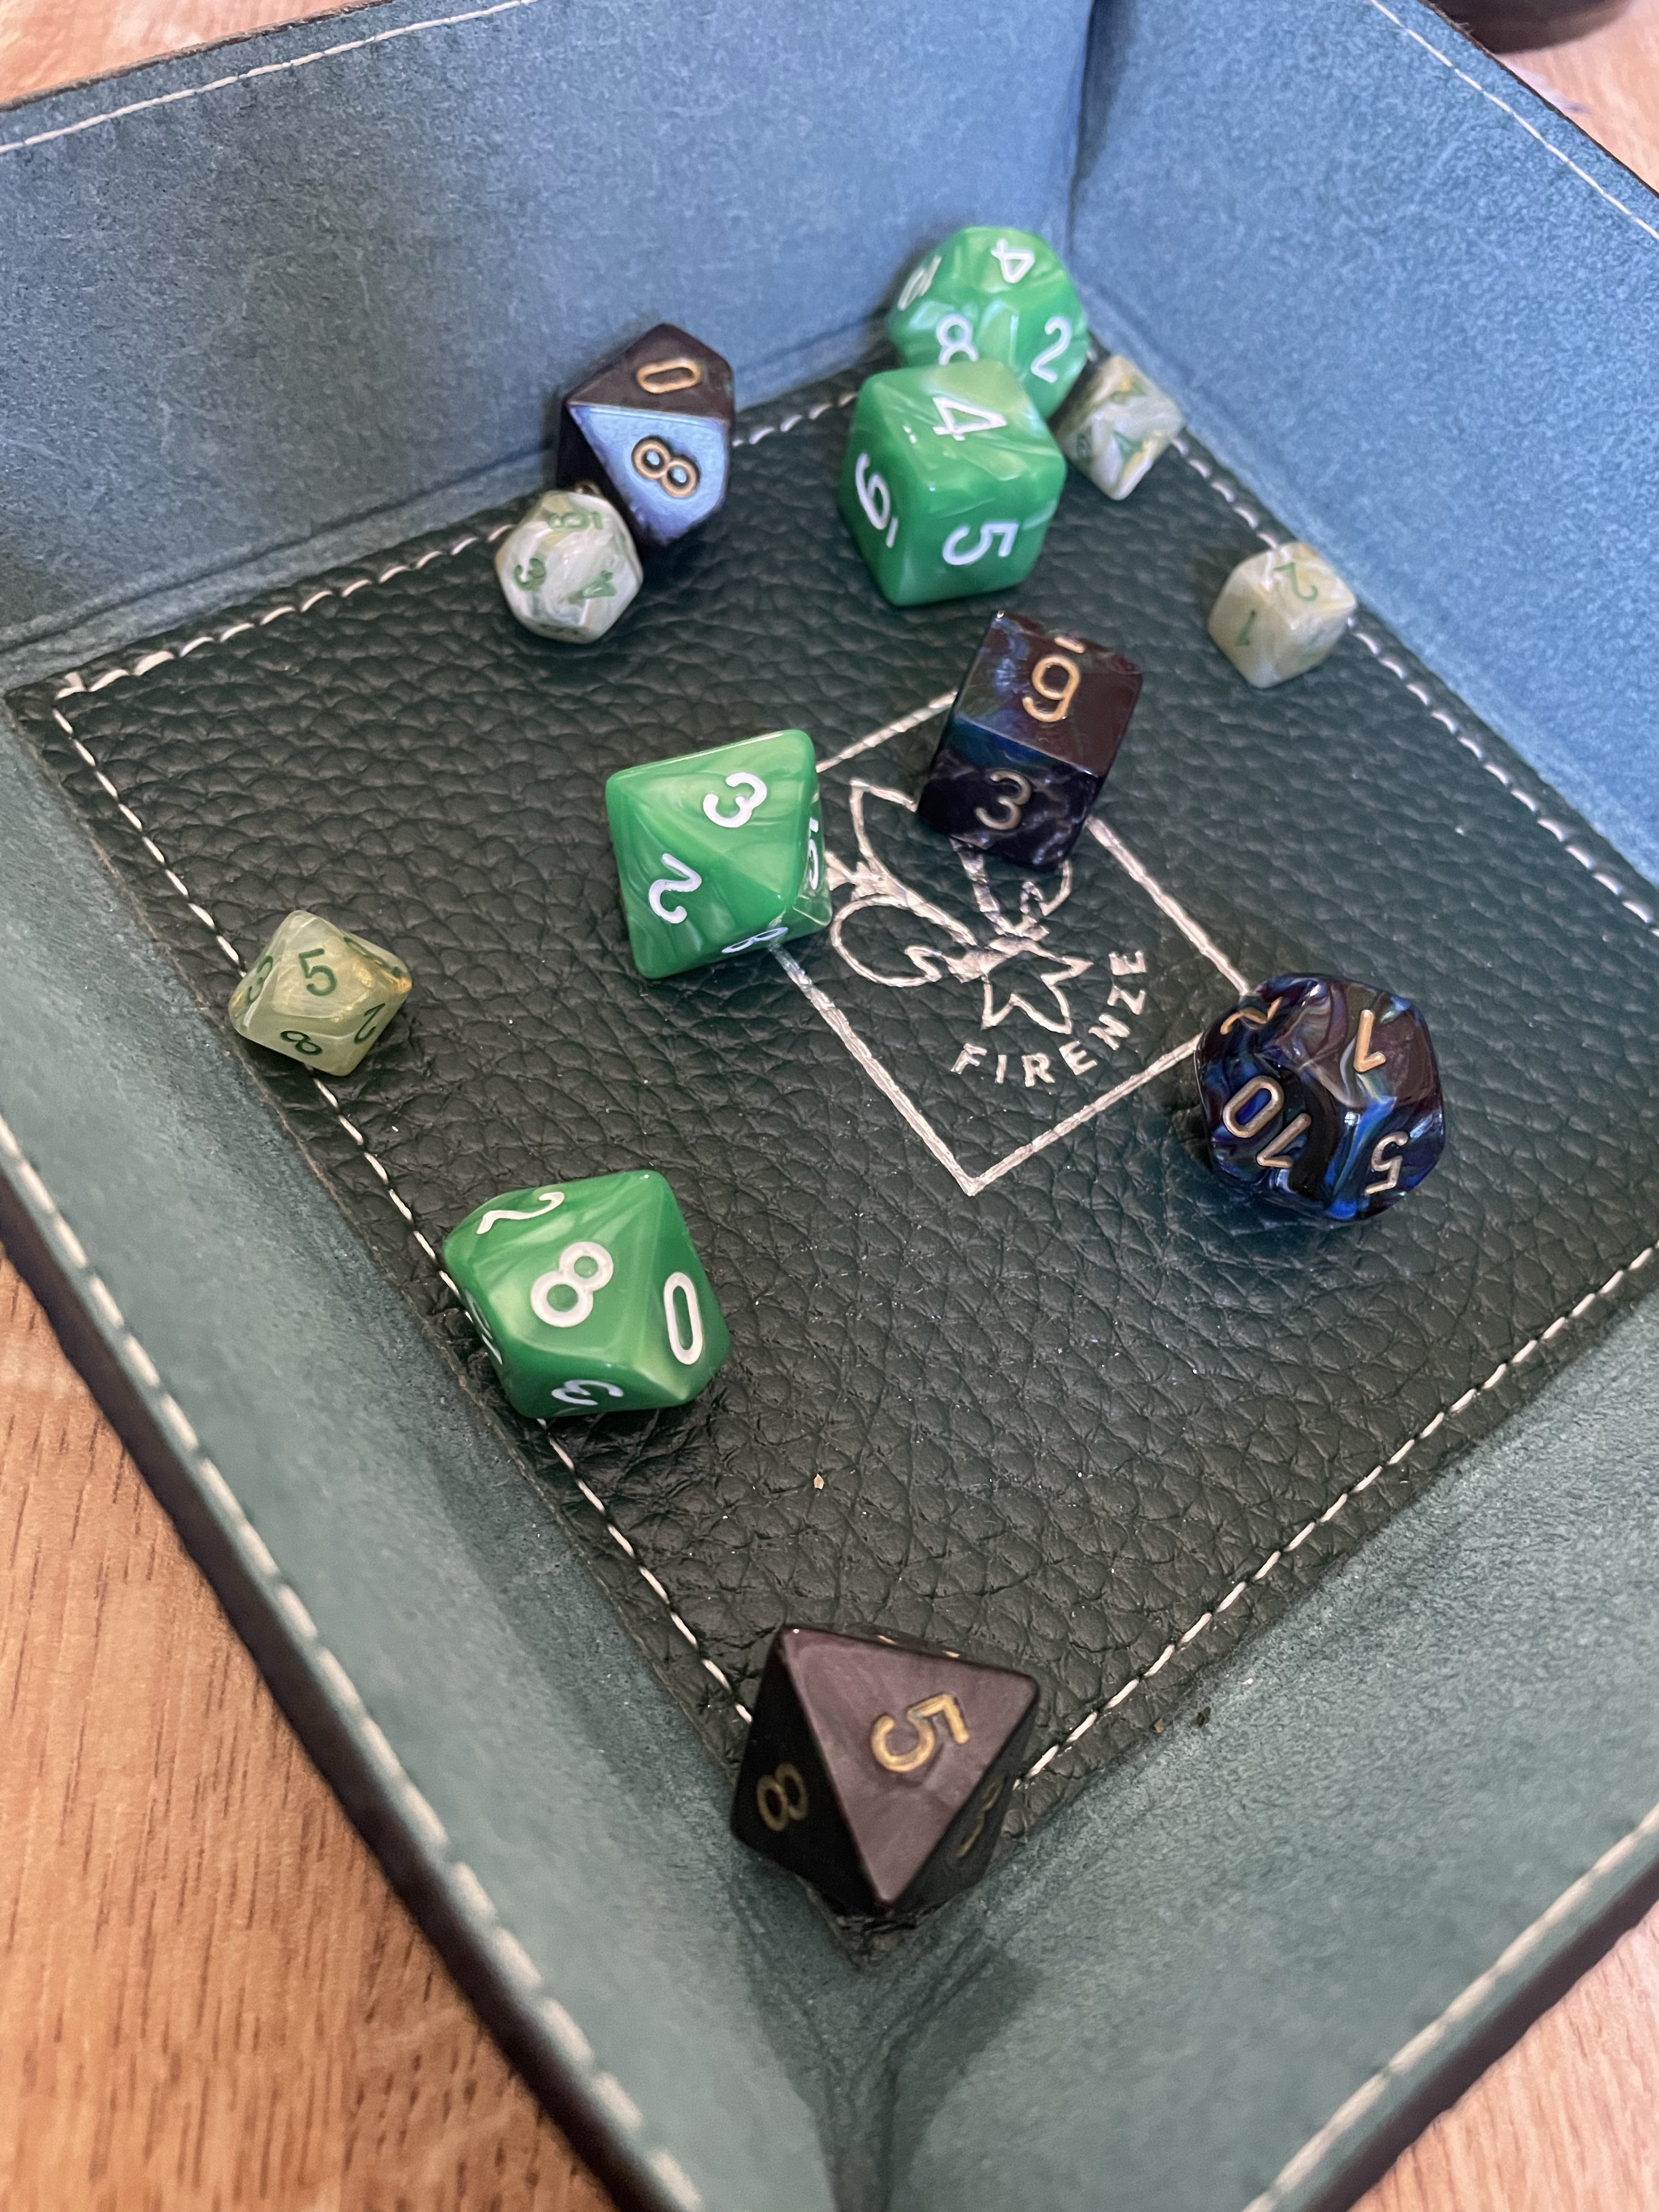eight: (415, 1151, 784, 1420)
five: (704, 1583, 1065, 1926), (200, 881, 446, 1099)
four: (821, 338, 1082, 604), (842, 190, 1105, 413)
one: (1150, 920, 1481, 1261)
six: (903, 589, 1171, 867), (904, 597, 1162, 883), (477, 460, 659, 660)
three: (535, 686, 903, 1029)
two: (1188, 516, 1382, 698), (1040, 338, 1204, 507)
zero: (538, 294, 774, 557)
